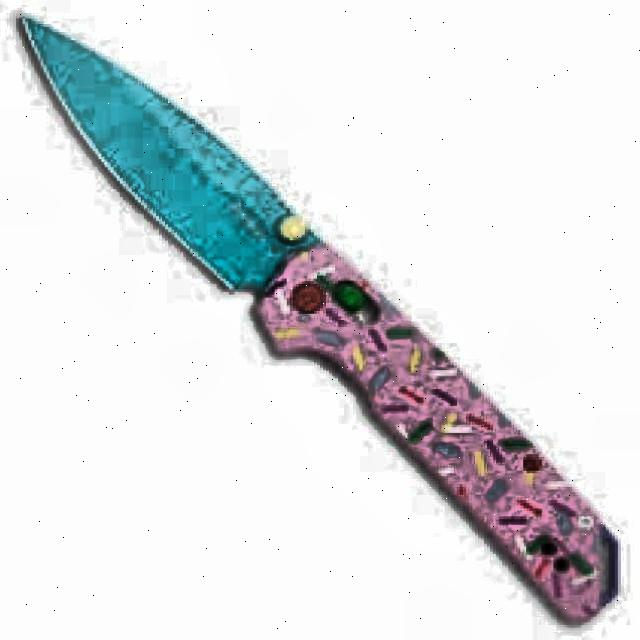knife: (17, 11, 625, 626)
